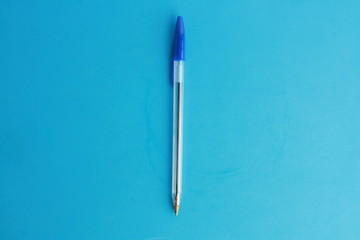pen: (160, 12, 195, 219)
